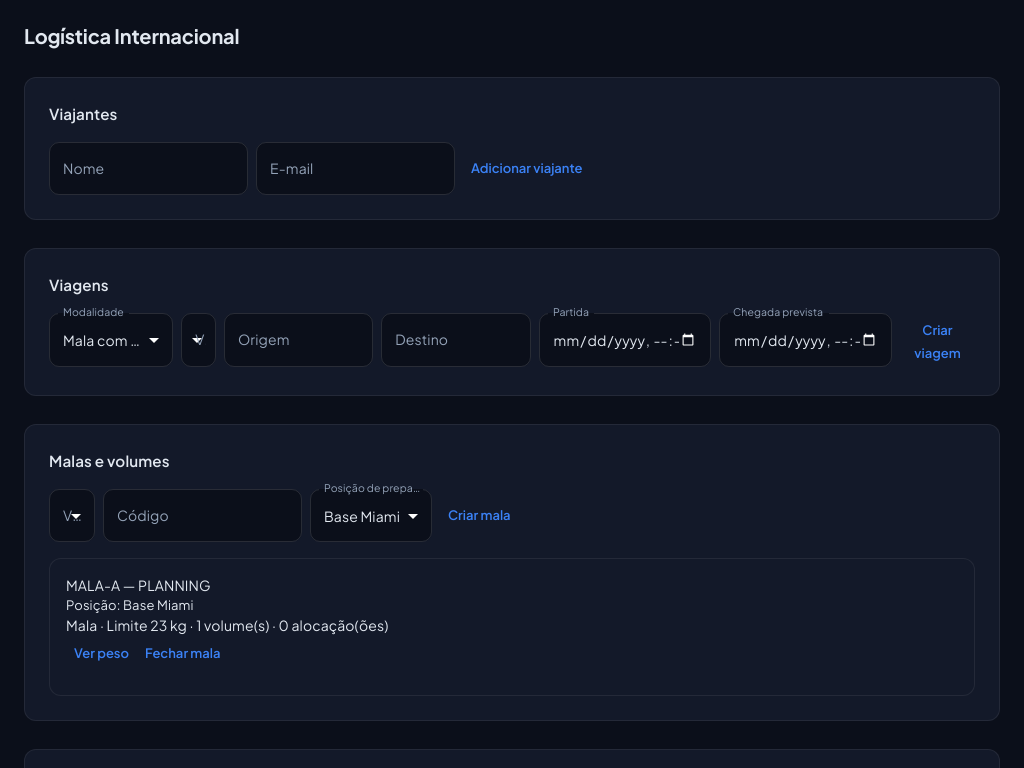
Logística — transições informadas pelo backend › confirma fechamento da mala usando a loja atual e remove a ação após refetch
The width and height of the screenshot is (1024, 768).
Click the button "Fechar mala": (183, 653) [137,636,228,671]
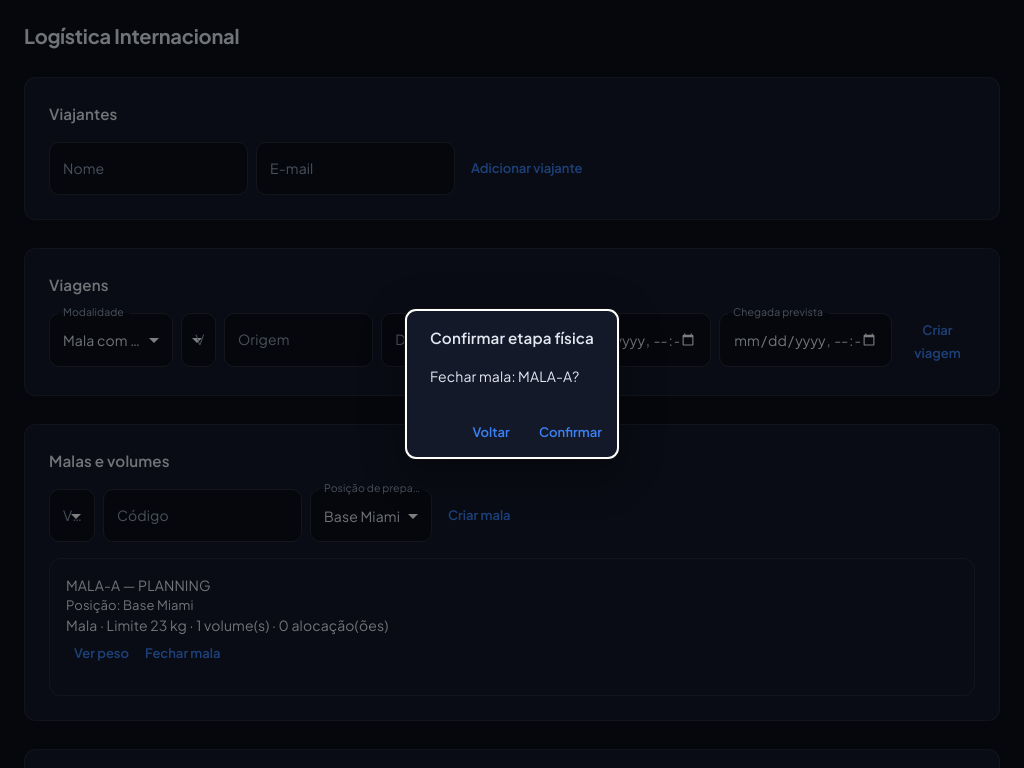
Expected: the text "Fechar mala: MALA-A?" is shown, [430,366,594,387]
Click the button "Confirmar": (570, 433) [531,415,610,450]
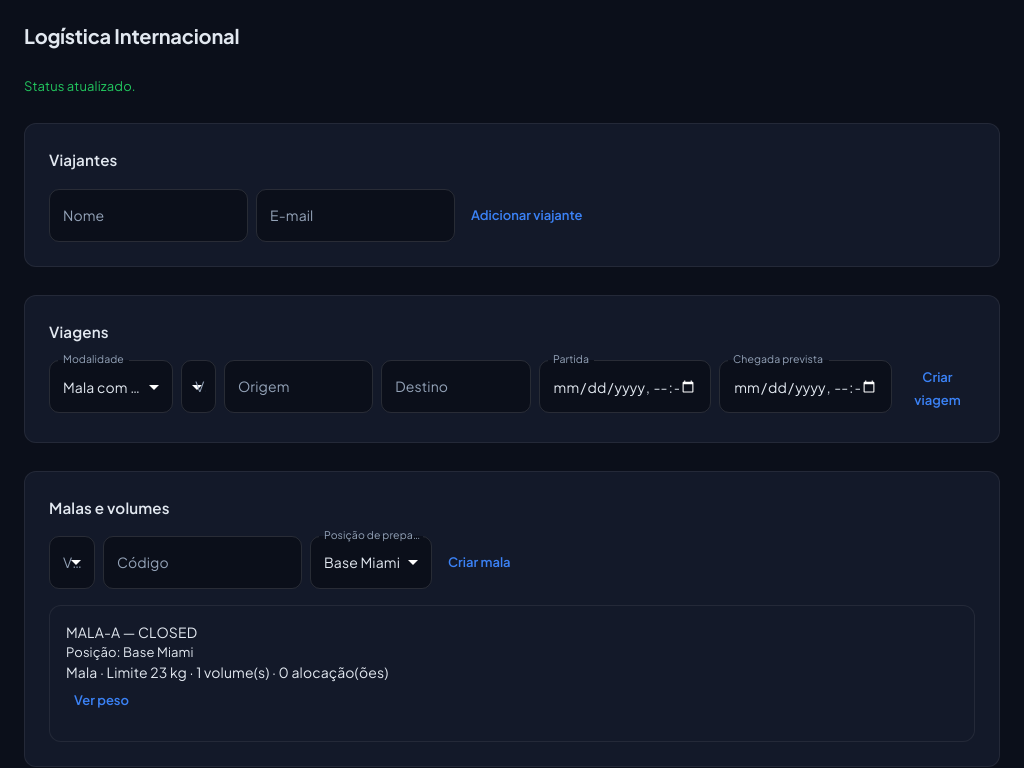
Expected: the button "Fechar mala" is gone
Expected: the text "MALA-A — CLOSED" is shown, [66,623,197,641]
